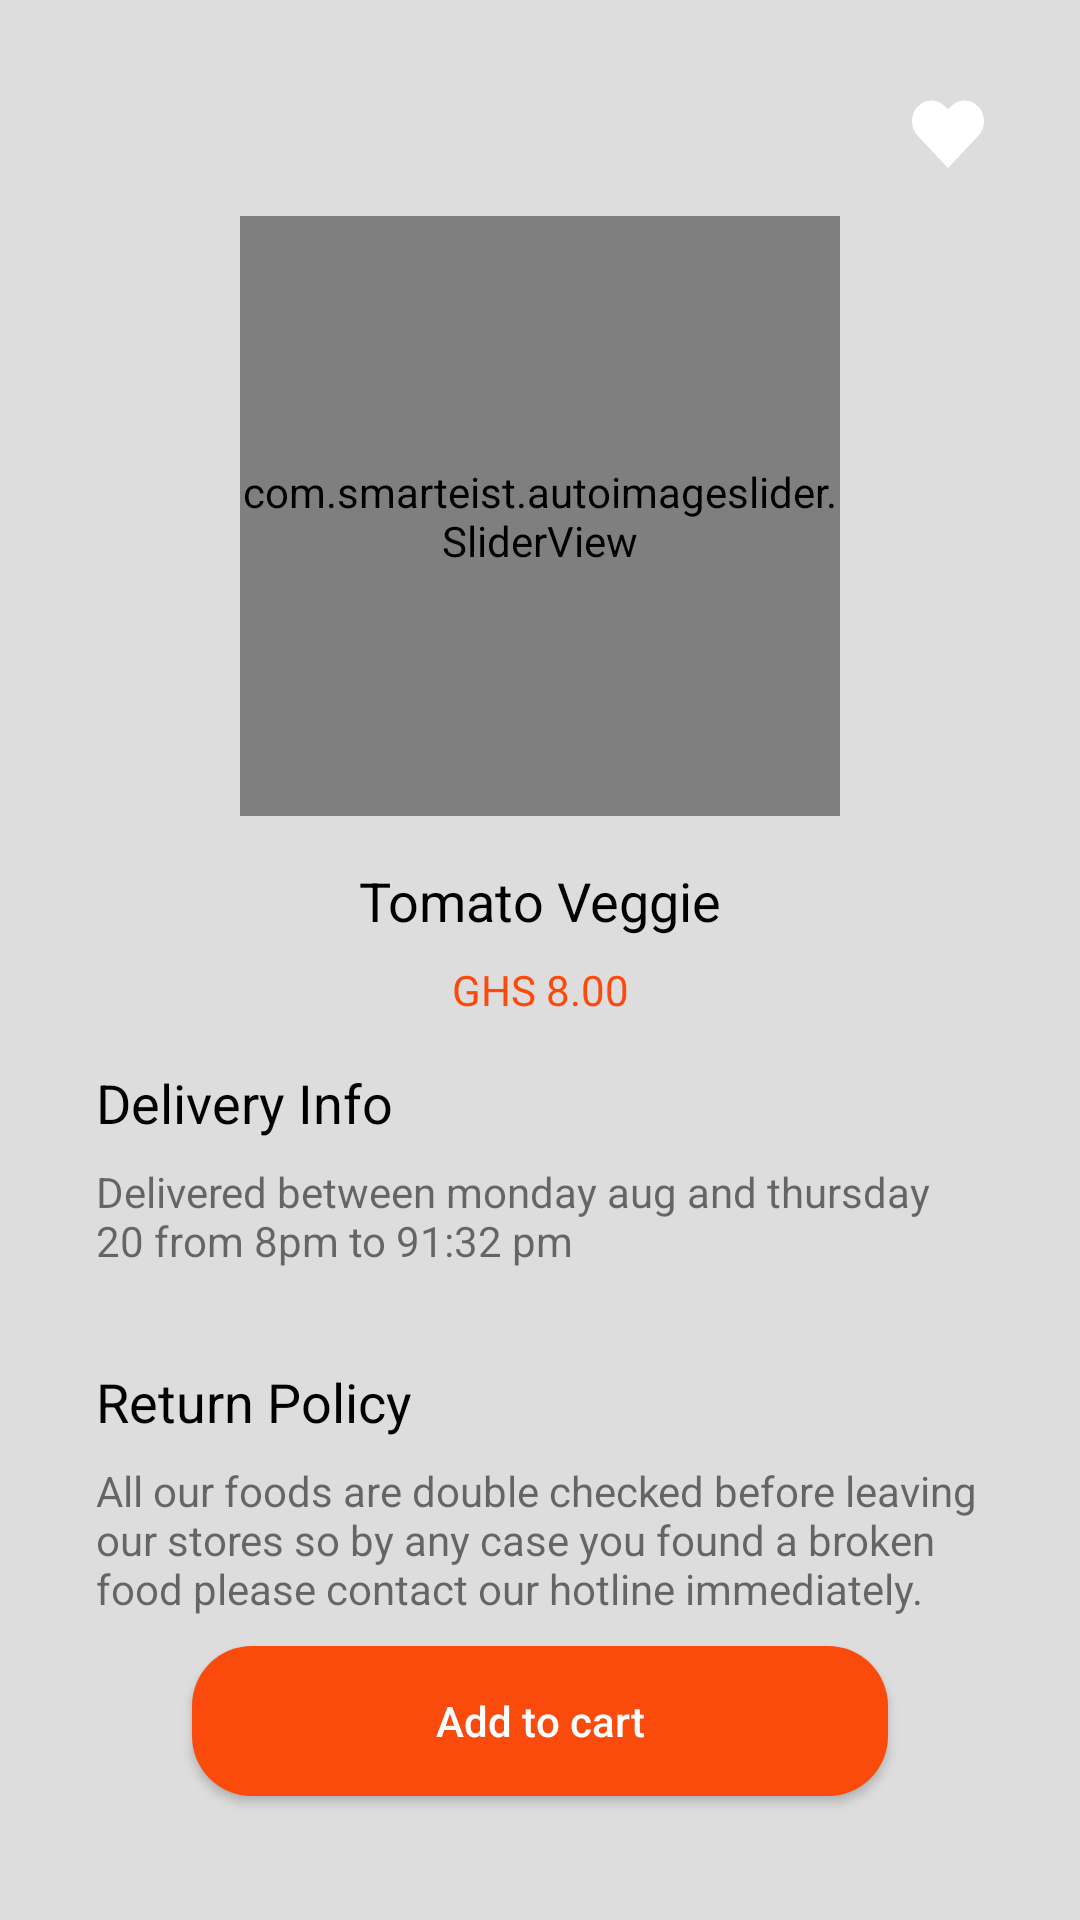

Named icons in this screenshot (1080*1920) and their centers, [x,y]:
favorite empty: [948,134]
